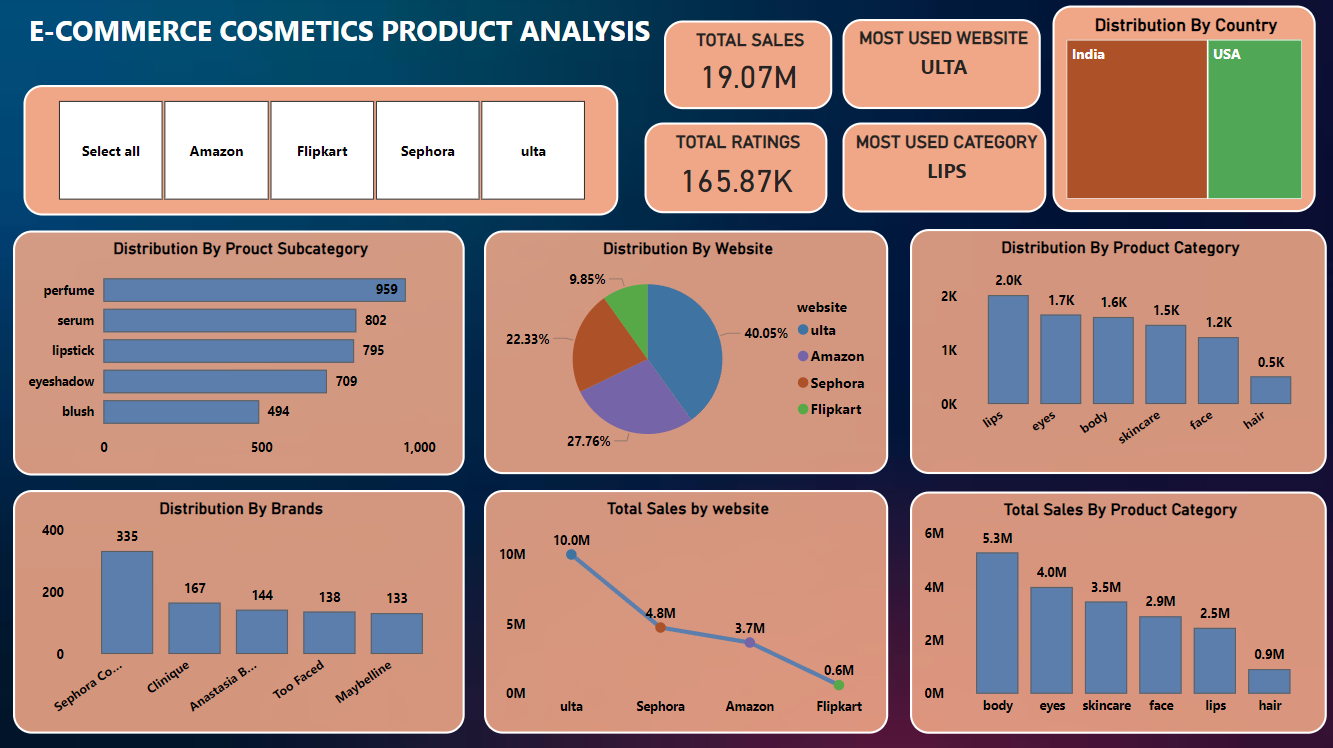

What the dashboard file says about the page in this screenshot:
{"tool":"powerbi","page":{"name":"Page 1","canvas":[1280,720],"ordinal":0},"visuals":[{"type":"card","title":"TOTAL SALES","fields":{"Values":["Sum(cosmetic_dataset.price)"]},"box":[640.5,24.2,160.5,84.8],"z":0},{"type":"card","title":"TOTAL RATINGS","fields":{"Values":["Sum(cosmetic_dataset.rating)"]},"box":[628.4,121.1,175.6,87.8],"z":1000},{"type":"treemap","title":"Distribution By Country","fields":{"Values":["CountNonNull(cosmetic_dataset.country)"],"Details":["cosmetic_dataset.country"]},"box":[1017.5,13.6,251.4,196.8],"z":2000},{"type":"pieChart","title":"Distribution By Website","fields":{"Category":["cosmetic_dataset.website"],"Y":["CountNonNull(cosmetic_dataset.website)"]},"box":[463.7,225,385.7,232.6],"z":3000},{"type":"columnChart","title":"Distribution By Product Category","fields":{"Category":["cosmetic_dataset.category"],"Y":["CountNonNull(cosmetic_dataset.category)"]},"box":[870.9,223.5,397.9,234.2],"z":4000},{"type":"barChart","title":"Distribution By Prouct Subcategory","fields":{"Category":["cosmetic_dataset.subcategory"],"Y":["CountNonNull(cosmetic_dataset.subcategory)"]},"box":[14.4,224.4,431.1,234],"z":5000},{"type":"columnChart","title":"Distribution By Brands","fields":{"Category":["cosmetic_dataset.brand"],"Y":["CountNonNull(cosmetic_dataset.brand)"]},"box":[13.8,472.9,431.6,232.6],"z":6000},{"type":"lineChart","title":"Total Sales  by website","fields":{"Category":["cosmetic_dataset.website"],"Y":["Sum(cosmetic_dataset.price)"]},"box":[463.7,472.9,385.7,232.6],"z":7000},{"type":"columnChart","title":"Total Sales By Product Category","fields":{"Y":["Sum(cosmetic_dataset.price)"],"Category":["cosmetic_dataset.category"]},"box":[870.9,474.5,397.9,231.1],"z":8000},{"type":"textbox","box":[24.2,10.6,611.7,145.4],"z":9000},{"type":"slicer","fields":{"Values":["cosmetic_dataset.website"]},"box":[24.6,86,568.3,124.4],"z":10000},{"type":"shape","title":"MOST USED CATEGORY","box":[819.2,122.7,183.2,84.8],"z":11000},{"type":"shape","title":"MOST USED WEBSITE","box":[829.8,24.2,172.6,84.8],"z":12000}]}

Visuals, with their boxes in screenshot pixels (x1, y1, x2, y2), scaled from the page's 1280x720 canvas onto the 1333x748 screenshot:
"TOTAL SALES" card: [667,25,834,113]
"TOTAL RATINGS" card: [654,126,837,217]
"Distribution By Country" treemap: [1060,14,1321,219]
"Distribution By Website" pieChart: [483,234,885,475]
"Distribution By Product Category" columnChart: [907,232,1321,475]
"Distribution By Prouct Subcategory" barChart: [15,233,464,476]
"Distribution By Brands" columnChart: [14,491,464,733]
"Total Sales  by website" lineChart: [483,491,885,733]
"Total Sales By Product Category" columnChart: [907,493,1321,733]
textbox: [25,11,662,162]
slicer - cosmetic_dataset.website: [26,89,617,219]
"MOST USED CATEGORY" shape: [853,127,1044,216]
"MOST USED WEBSITE" shape: [864,25,1044,113]
